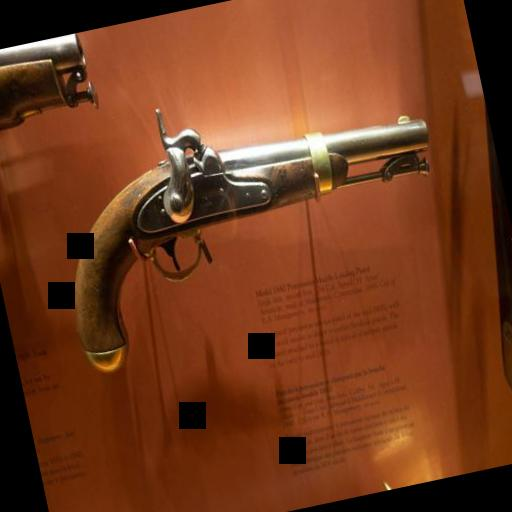Handgun: (32, 50, 461, 378)
